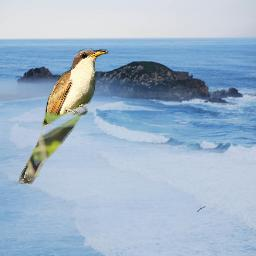Cuckoo: (17, 46, 110, 187)
